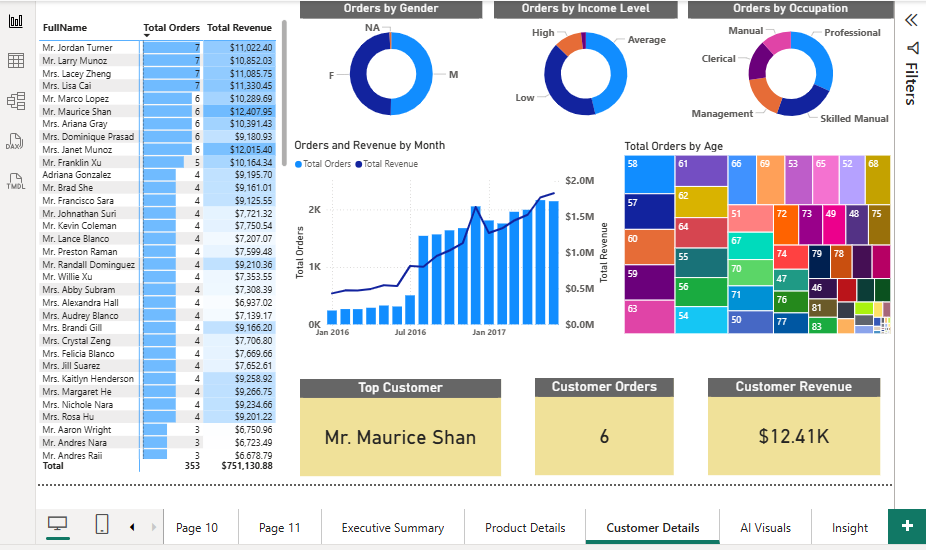

The dashboard page shown, as its layout file describes it:
{"tool":"powerbi","page":{"name":"Customer Details","canvas":[1280,720],"ordinal":15},"visuals":[{"type":"pivotTable","fields":{"Values":["Sales Data.Total Orders","Sales Data.Total Revenue"],"Rows":["Customers_lookup.FullName"]},"box":[0,23,380.2,685.4],"z":0},{"type":"donutChart","title":"Orders by Gender","fields":{"Y":["Sales Data.Total Orders"],"Category":["Customers_lookup.Gender"]},"box":[393.7,0,272.5,196.1],"z":1000},{"type":"donutChart","title":"Orders by Income Level","fields":{"Y":["Sales Data.Total Orders"],"Category":["Customers_lookup.IncomeLevel"]},"box":[682.7,0,274,196.1],"z":2000},{"type":"donutChart","title":"Orders by Occupation","fields":{"Y":["Sales Data.Total Orders"],"Category":["Customers_lookup.Occupation"]},"box":[973.1,0,306.9,196.1],"z":3000},{"type":"lineClusteredColumnComboChart","title":"Orders and Revenue by Month","fields":{"Category":["Calendar_lookup.Start of Month"],"Y":["Sales Data.Total Orders"],"Y2":["Sales Data.Total Revenue"]},"box":[380.3,205.1,479.1,308.4],"z":4000},{"type":"treemap","fields":{"Values":["Sales Data.Total Orders"],"Group":["Customers_lookup.Age"]},"box":[872.9,205.7,407.1,295.7],"z":5000},{"type":"card","title":"Top Customer","fields":{"Values":["Min(Customers_lookup.FullName)"]},"box":[393.8,563.9,299.9,144.7],"z":6000},{"type":"card","title":"Customer Orders","fields":{"Values":["Sales Data.Total Orders"]},"box":[744.4,562.4,207.4,144.7],"z":6001},{"type":"card","title":"Customer Revenue","fields":{"Values":["Sales Data.Total Revenue"]},"box":[1002.5,562.4,256.6,144.7],"z":6002}]}

Visuals, with their boxes on the page's 1280x720 design canvas (x1, y1, x2, y2). These are canvas units, not pixel positions in the 926x550 screenshot, which may show the page scaled, cropped or inside an application window:
pivotTable - Sales Data.Total Orders x Sales Data.Total Revenue: (left=0, top=23, right=380, bottom=708)
"Orders by Gender" donutChart: (left=394, top=0, right=666, bottom=196)
"Orders by Income Level" donutChart: (left=683, top=0, right=957, bottom=196)
"Orders by Occupation" donutChart: (left=973, top=0, right=1280, bottom=196)
"Orders and Revenue by Month" lineClusteredColumnComboChart: (left=380, top=205, right=859, bottom=514)
treemap - Sales Data.Total Orders x Customers_lookup.Age: (left=873, top=206, right=1280, bottom=501)
"Top Customer" card: (left=394, top=564, right=694, bottom=709)
"Customer Orders" card: (left=744, top=562, right=952, bottom=707)
"Customer Revenue" card: (left=1002, top=562, right=1259, bottom=707)
